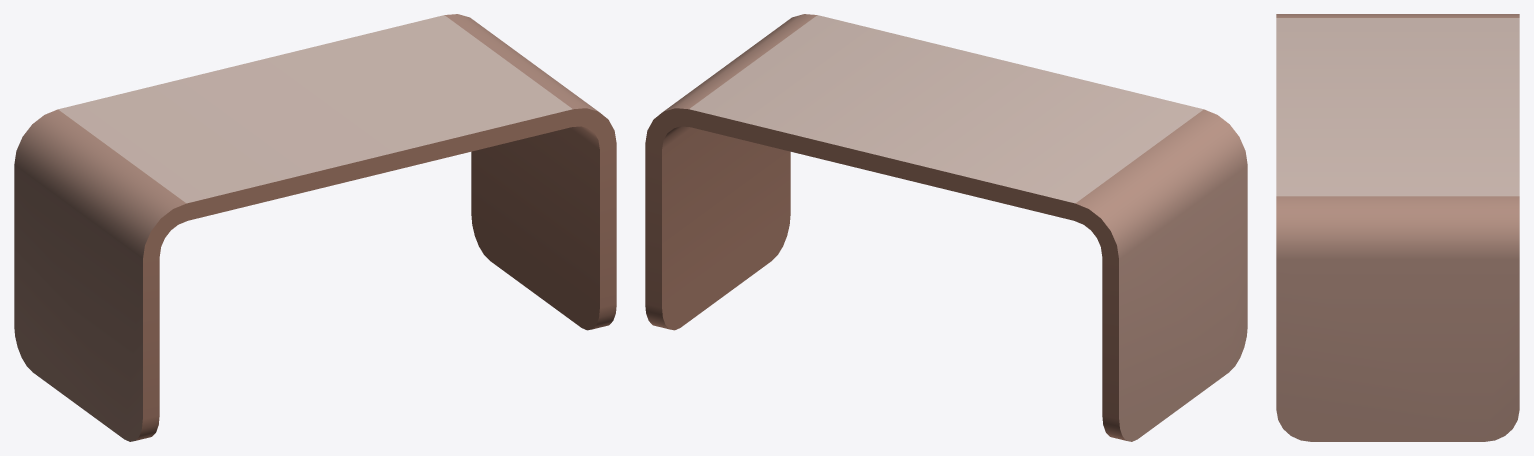
File: Table A.fbx
3 views of the same model, side by side, from view 1: azimuth 30°, elevation 25°; view 2: azimuth 150°, elevation 25°; view 3: azimuth 270°, elevation 25° (orthographic). The views are drawn at different scales.
Visible parts, largest first — view 1: Cube; view 2: Cube; view 3: Cube.
Part boxes in pixels (x1,y1,x2,y2): Cube: [14, 14, 616, 441]; Cube: [645, 14, 1247, 441]; Cube: [1276, 14, 1519, 441].
Size of the model in its own units: 4.25 by 2.05 by 2.
